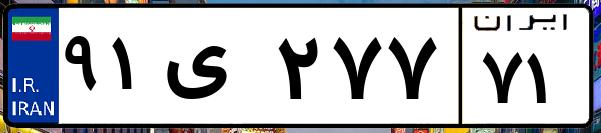1: (525, 38, 570, 115), (110, 28, 158, 98)
2: (270, 28, 330, 110)
7: (385, 28, 445, 110), (330, 28, 385, 110), (475, 38, 525, 113)
9: (57, 26, 110, 100)
ی: (158, 20, 270, 120)
